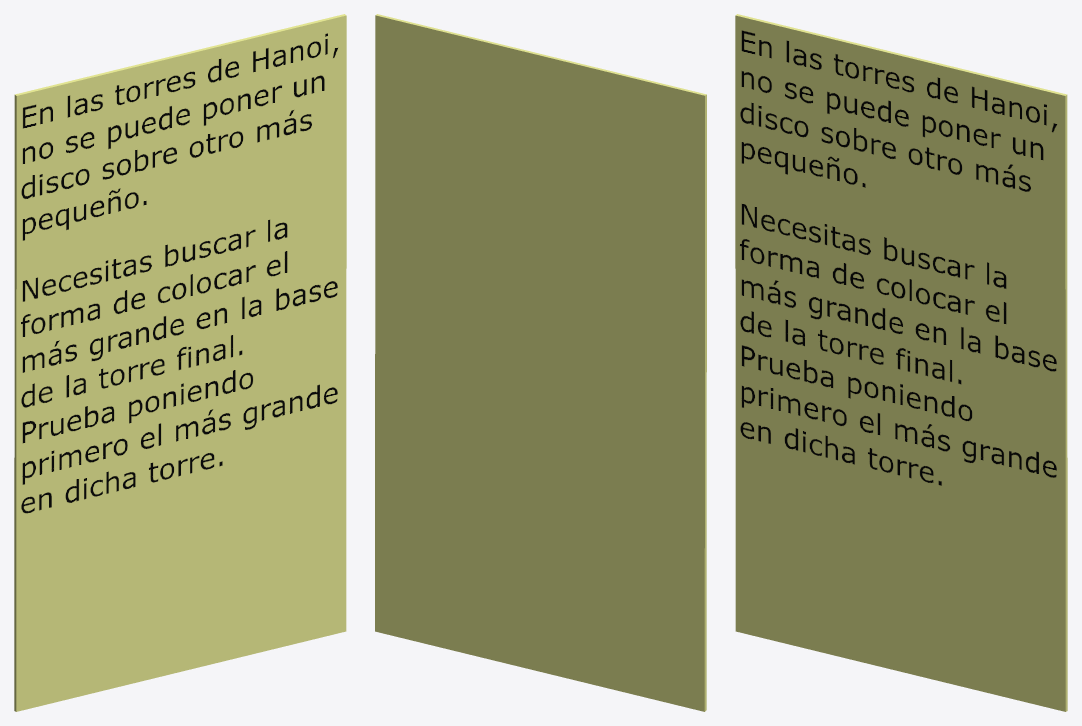
File: Pista3.fbx
The picture shows the model from 3 angles, left to right: view 1: azimuth 30°, elevation 25°; view 2: azimuth 150°, elevation 25°; view 3: azimuth 330°, elevation 25°; orthographic projection.
Visible parts, largest first — view 1: Cylinder; view 2: Cylinder; view 3: Cylinder.
Part boxes in pixels (box(x1,y1,x2,y2)): Cylinder: box(14, 14, 346, 711); Cylinder: box(375, 14, 706, 711); Cylinder: box(735, 14, 1067, 711).
Size of the model in its own units: 9 by 16.07 by 0.1023.
Materials: 1 (1 with a texture image).
